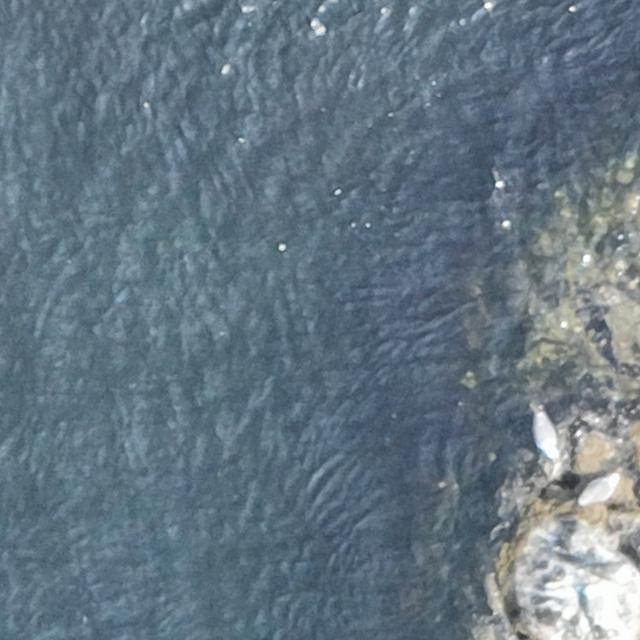umineko: (535, 402, 564, 462), (588, 553, 634, 584), (577, 478, 619, 502)
